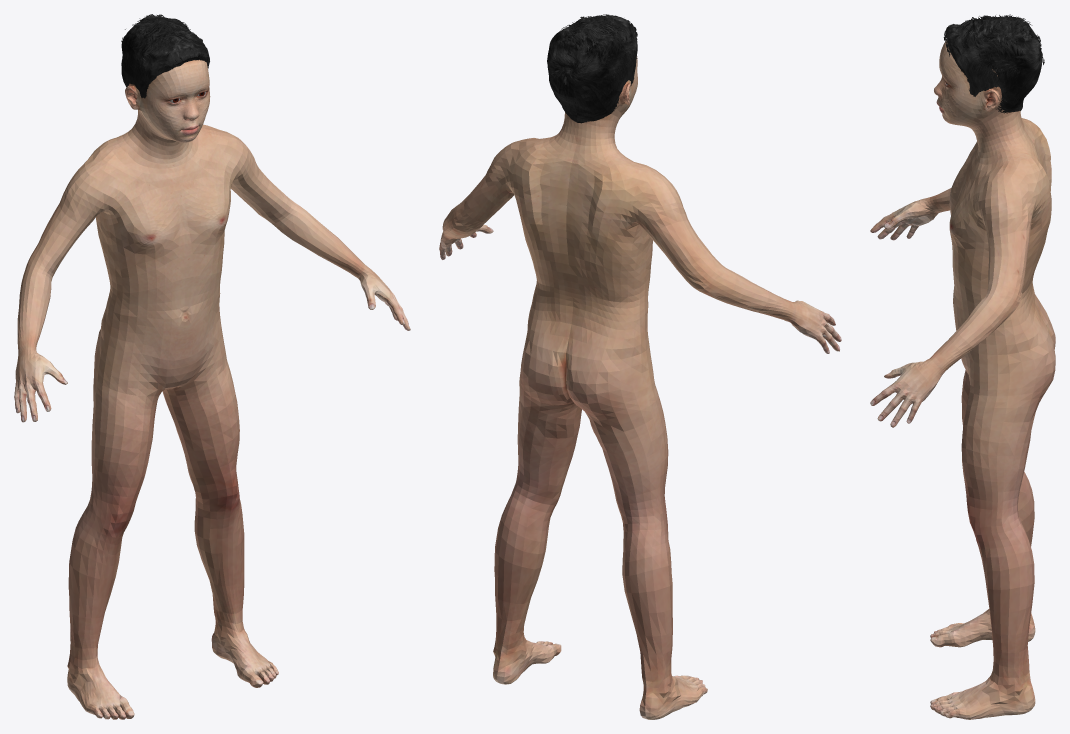
The model's file is nino.obj.
3 views of the same model, side by side, from view 1: azimuth 30°, elevation 25°; view 2: azimuth 150°, elevation 25°; view 3: azimuth 270°, elevation 25° (orthographic).
Parts seen in each view (by area): view 1: base.obj, short01.obj; view 2: base.obj, short01.obj; view 3: base.obj, short01.obj.
Boxes of the visible parts, x1=… form: base.obj: x1=14, y1=60, x2=410, y2=719; short01.obj: x1=121, y1=14, x2=209, y2=98; base.obj: x1=439, y1=56, x2=841, y2=719; short01.obj: x1=547, y1=14, x2=637, y2=123; base.obj: x1=870, y1=41, x2=1055, y2=719; short01.obj: x1=943, y1=14, x2=1044, y2=113.
Bounding box in the file's own units: 0.7902 × 1.29 × 0.3286.
3 materials, 3 textured.
